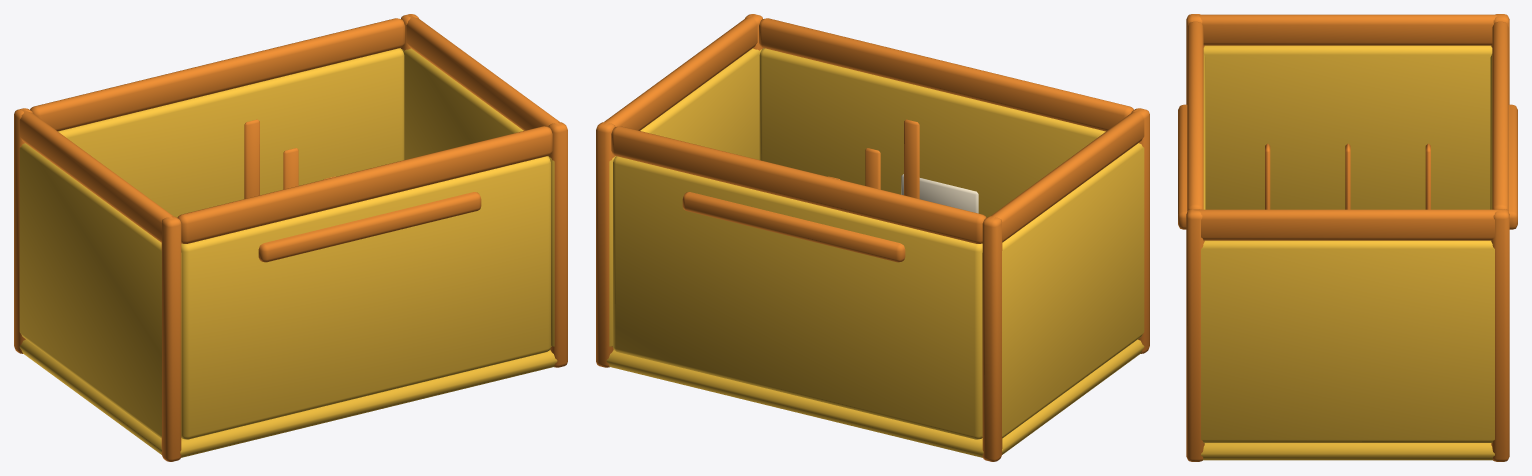
Rendered from cargo_basket_v2.glb.
The picture shows the model from 3 angles, left to right: view 1: azimuth 30°, elevation 25°; view 2: azimuth 150°, elevation 25°; view 3: azimuth 270°, elevation 25°; orthographic projection. The views are drawn at different scales.
Visible parts, largest first — view 1: CargoBasket; view 2: CargoBasket; view 3: CargoBasket.
Part boxes in pixels (x1,y1,x2,y2): CargoBasket: (14,14,567,461); CargoBasket: (596,14,1149,461); CargoBasket: (1178,14,1517,461).
Size of the model in its own units: 0.5218 by 0.3 by 0.37.
